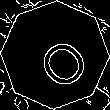O_NW: (22, 22, 88, 88)
